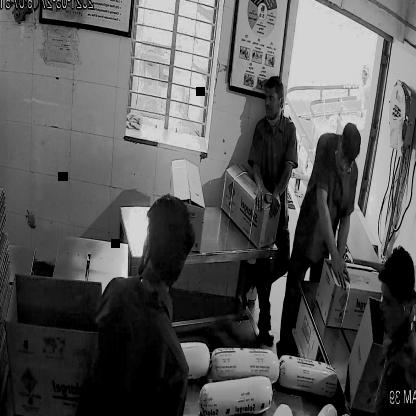no_goggles: (261, 90, 288, 108)
